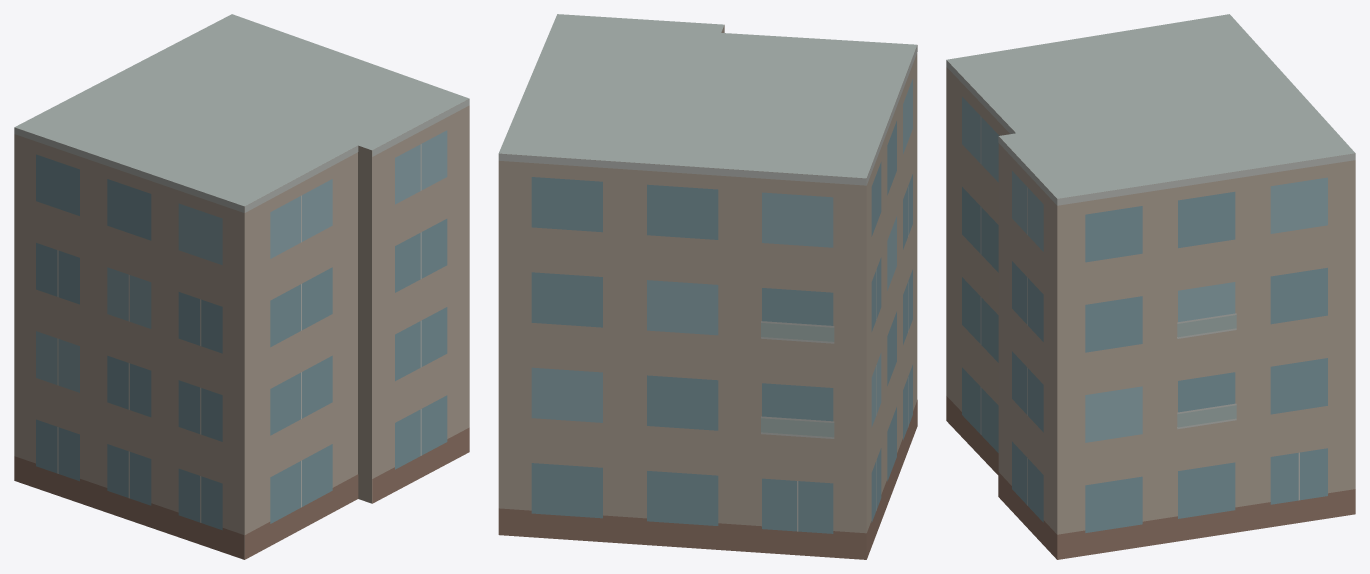
Rendered from survey-upis-32847304.glb.
The picture shows the model from 3 angles, left to right: view 1: azimuth 30°, elevation 25°; view 2: azimuth 150°, elevation 25°; view 3: azimuth 270°, elevation 25°; orthographic projection. The views are drawn at different scales.
Parts seen in each view (by area): view 1: survey-upis-32847304.tmp; view 2: survey-upis-32847304.tmp; view 3: survey-upis-32847304.tmp.
Part boxes in pixels (x1=…): survey-upis-32847304.tmp: x1=14, y1=14, x2=469, y2=559; survey-upis-32847304.tmp: x1=498, y1=14, x2=917, y2=559; survey-upis-32847304.tmp: x1=946, y1=14, x2=1355, y2=559.
Size of the model in its own units: 14.18 by 12.9 by 13.27.
